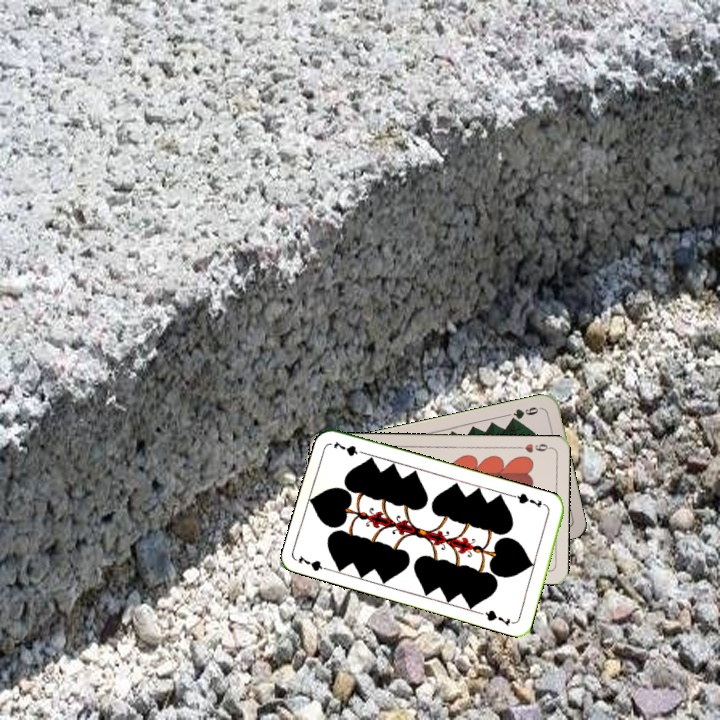G7: (294, 551, 335, 574), (510, 489, 550, 510)
G9: (506, 403, 544, 424)
H9: (513, 439, 553, 455)
